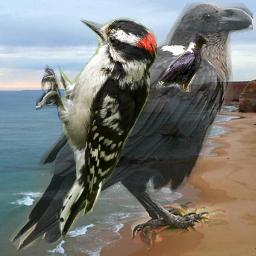Crow: (9, 2, 253, 251), (156, 33, 209, 92)
Woodpecker: (36, 14, 157, 238)
